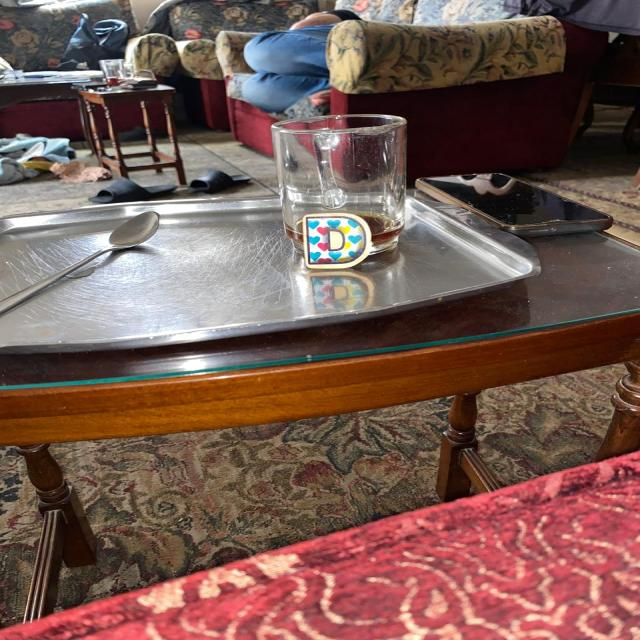D: (299, 214, 371, 269)
